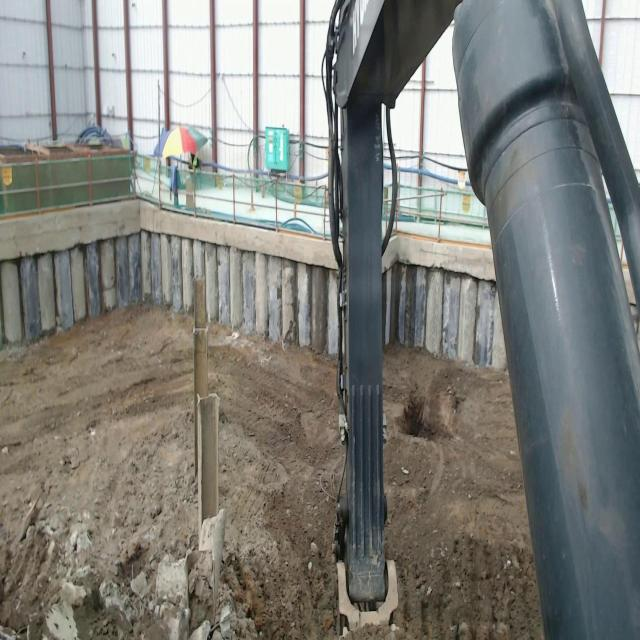cement: (0, 199, 336, 270), (384, 233, 494, 281)
red-sand: (0, 308, 196, 639), (385, 349, 541, 639), (209, 325, 342, 639)
rocks: (0, 527, 231, 639), (47, 540, 56, 559)
